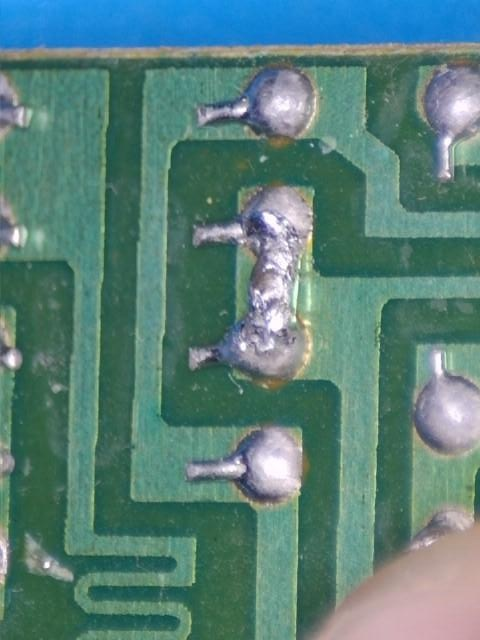pcb_defect: (218, 187, 310, 377)
